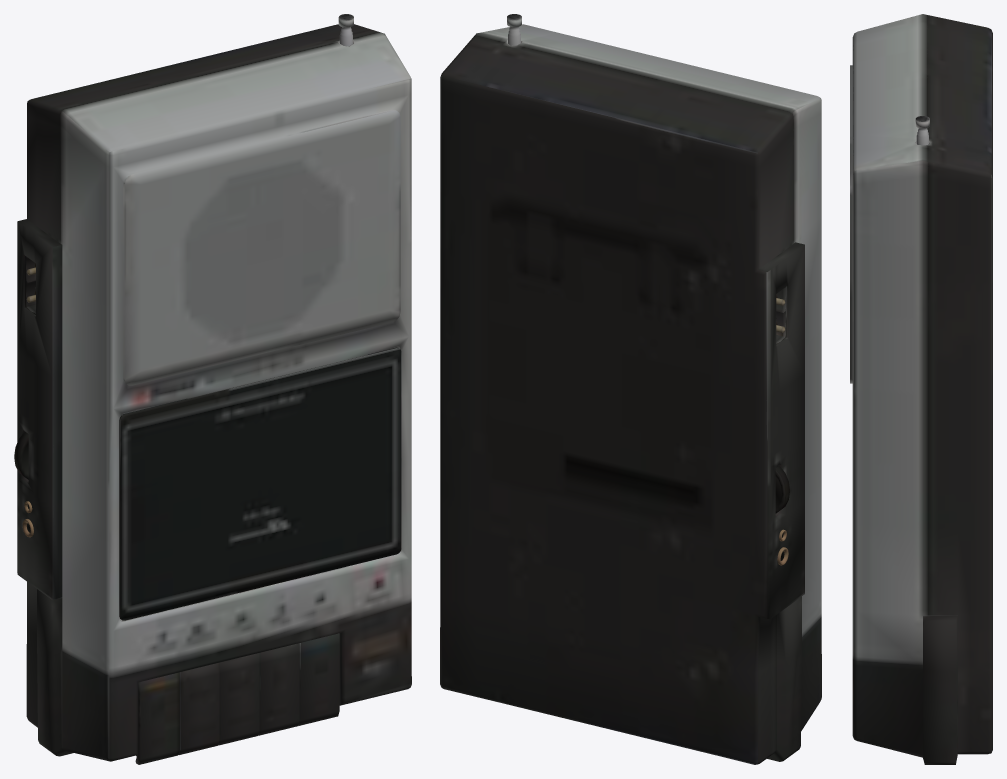
File: cassette_player.glb
3 views of the same model, side by side, from view 1: azimuth 30°, elevation 25°; view 2: azimuth 150°, elevation 25°; view 3: azimuth 270°, elevation 25° (orthographic). The views are drawn at different scales.
Parts seen in each view (by area): view 1: cassette_player_body; view 2: cassette_player_body; view 3: cassette_player_body.
Boxes of the visible parts, x1,y1,x2,y2 form: cassette_player_body: (14, 14, 411, 764); cassette_player_body: (440, 14, 821, 764); cassette_player_body: (850, 14, 992, 764).
Bounding box in the file's own units: 0.1295 × 0.2368 × 0.0489.
3 materials, 3 textured.
